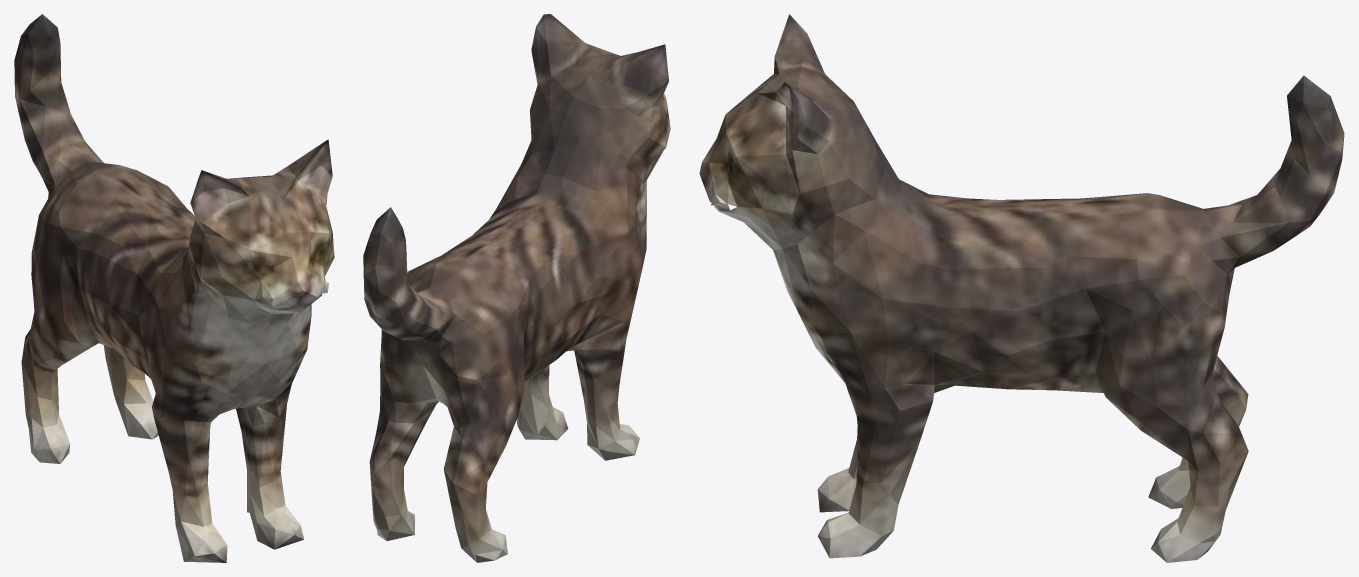
The model's file is r32_tier_katze.glb.
3 renders of one model, left to right at view 1: azimuth 30°, elevation 25°; view 2: azimuth 150°, elevation 25°; view 3: azimuth 270°, elevation 25°, orthographic. The views are drawn at different scales.
Parts seen in each view (by area): view 1: katze; view 2: katze; view 3: katze.
Boxes of the visible parts, <box> form: katze: <box>14,14,334,562</box>; katze: <box>363,14,670,562</box>; katze: <box>699,14,1344,562</box>.
Bounding box in the file's own units: 0.3632 × 1 × 1.23.
Materials: 1 (1 with a texture image).
